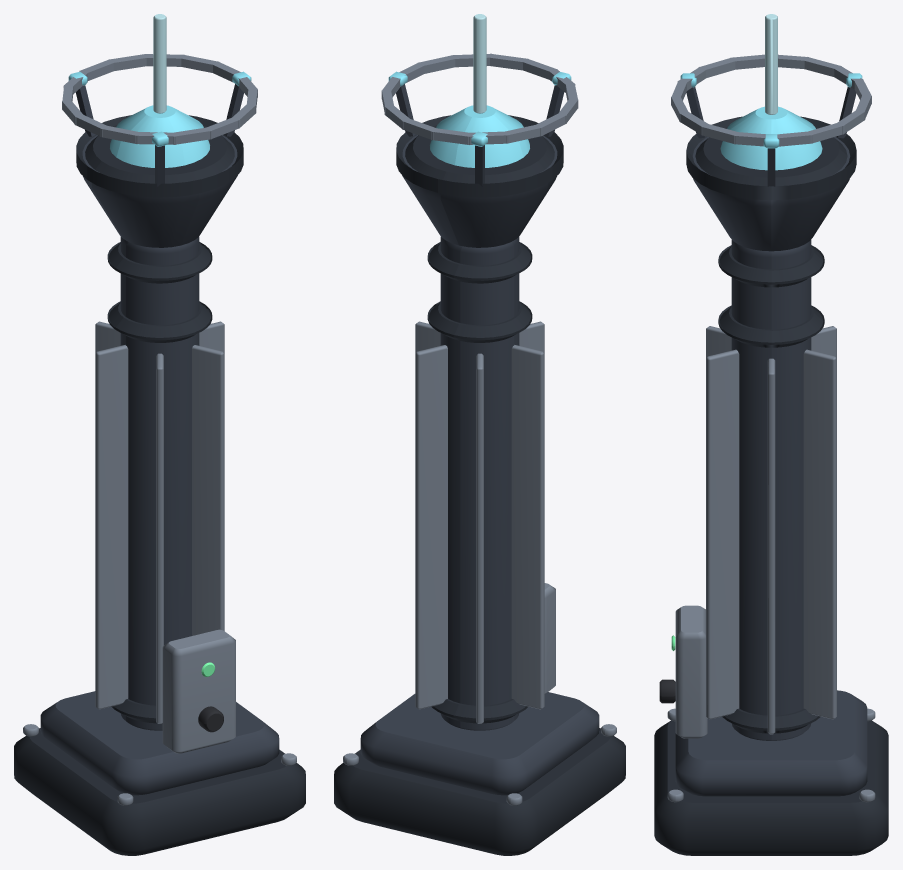
File: projecteur_mur_holographique.glb
3 renders of one model, left to right at view 1: azimuth 30°, elevation 25°; view 2: azimuth 150°, elevation 25°; view 3: azimuth 270°, elevation 25°, orthographic.
Visible parts, largest first — view 1: pieces_emetteur.002, pieces_emetteur_clair.002, pieces_emetteur_bord.002, anneau_focal_emetteur_clair.002, holo_noyau_lentille.002, holo_noyau_holo_clair.002, anneau_focal_emetteur.002; view 2: pieces_emetteur.002, pieces_emetteur_clair.002, pieces_emetteur_bord.002, anneau_focal_emetteur_clair.002, holo_noyau_lentille.002, holo_noyau_holo_clair.002, anneau_focal_emetteur.002; view 3: pieces_emetteur.002, pieces_emetteur_clair.002, pieces_emetteur_bord.002, anneau_focal_emetteur_clair.002, holo_noyau_lentille.002, holo_noyau_holo_clair.002, anneau_focal_emetteur.002, anneau_focal_lentille.002.
Boxes of the visible parts, x1,y1,x2,y2 form: pieces_emetteur.002: (40,135,279,795); pieces_emetteur_clair.002: (23,321,296,805); pieces_emetteur_bord.002: (14,115,305,855); anneau_focal_emetteur_clair.002: (62,54,257,144); holo_noyau_lentille.002: (110,105,209,167); holo_noyau_holo_clair.002: (153,14,166,113); anneau_focal_emetteur.002: (75,84,243,186); pieces_emetteur.002: (360,135,599,795); pieces_emetteur_clair.002: (343,321,616,805); pieces_emetteur_bord.002: (334,115,625,855); anneau_focal_emetteur_clair.002: (381,53,578,144); holo_noyau_lentille.002: (430,105,529,167); holo_noyau_holo_clair.002: (473,14,486,113); anneau_focal_emetteur.002: (396,84,564,186); pieces_emetteur.002: (675,137,867,796); pieces_emetteur_clair.002: (667,326,875,802); pieces_emetteur_bord.002: (654,116,888,855); anneau_focal_emetteur_clair.002: (671,54,871,146); holo_noyau_lentille.002: (720,106,822,170); holo_noyau_holo_clair.002: (765,14,777,114); anneau_focal_emetteur.002: (686,86,856,186); anneau_focal_lentille.002: (680,73,862,148).
Bounding box in the file's own units: 0.44 × 1.65 × 0.44.
